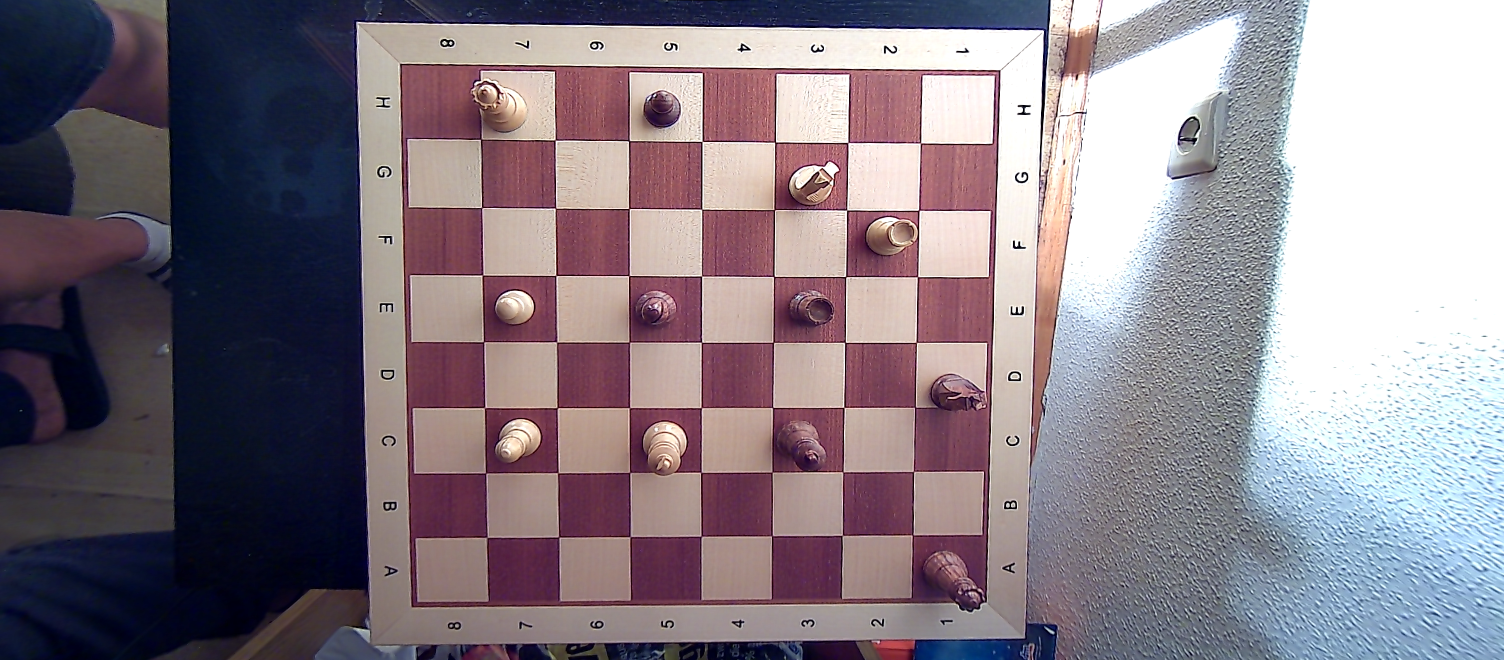black-bishop: (633, 287, 683, 331)
black-king: (774, 413, 833, 473)
black-knight: (926, 369, 987, 413)
black-pawn: (640, 85, 685, 131)
black-queen: (922, 546, 985, 614)
black-rook: (784, 284, 838, 329)
white-bishop: (492, 414, 545, 469)
white-king: (639, 418, 689, 475)
white-knight: (783, 160, 840, 206)
white-pawn: (493, 288, 537, 326)
white-queen: (471, 75, 530, 139)
white-rook: (858, 214, 922, 261)
